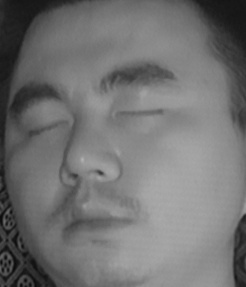blink: (112, 95, 165, 133), (21, 109, 70, 145)
mouth: (53, 190, 139, 249)
